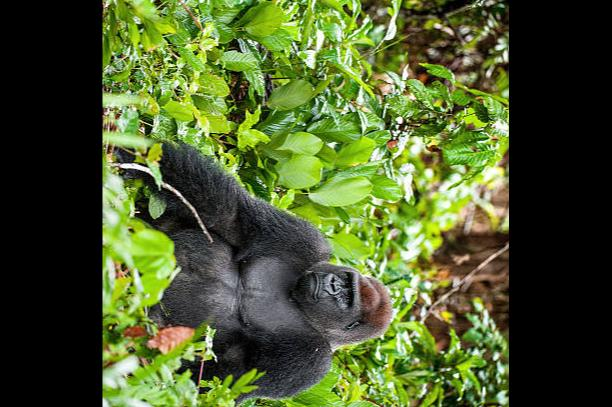gorille_Autres: (141, 136, 403, 407)
